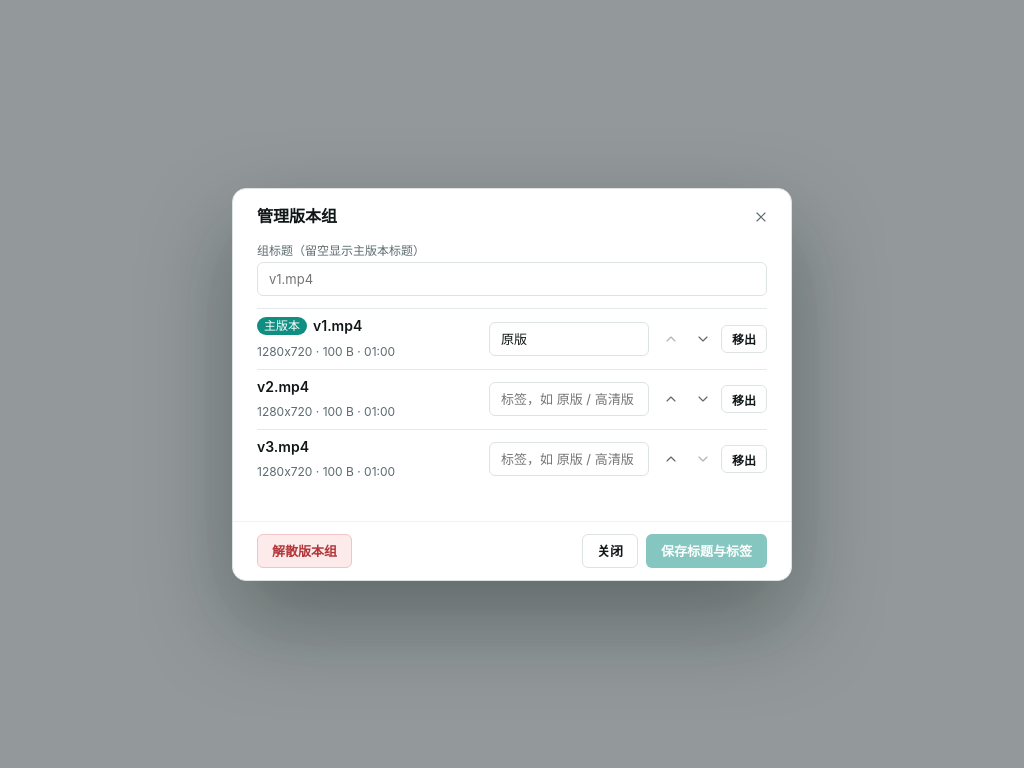
Scenario: VersionGroupDialog 管理一个组 › revision 冲突时重读该组并提示
Click the button with test id "version-dialog-up-3" at (671, 459), box [657,445,685,473]
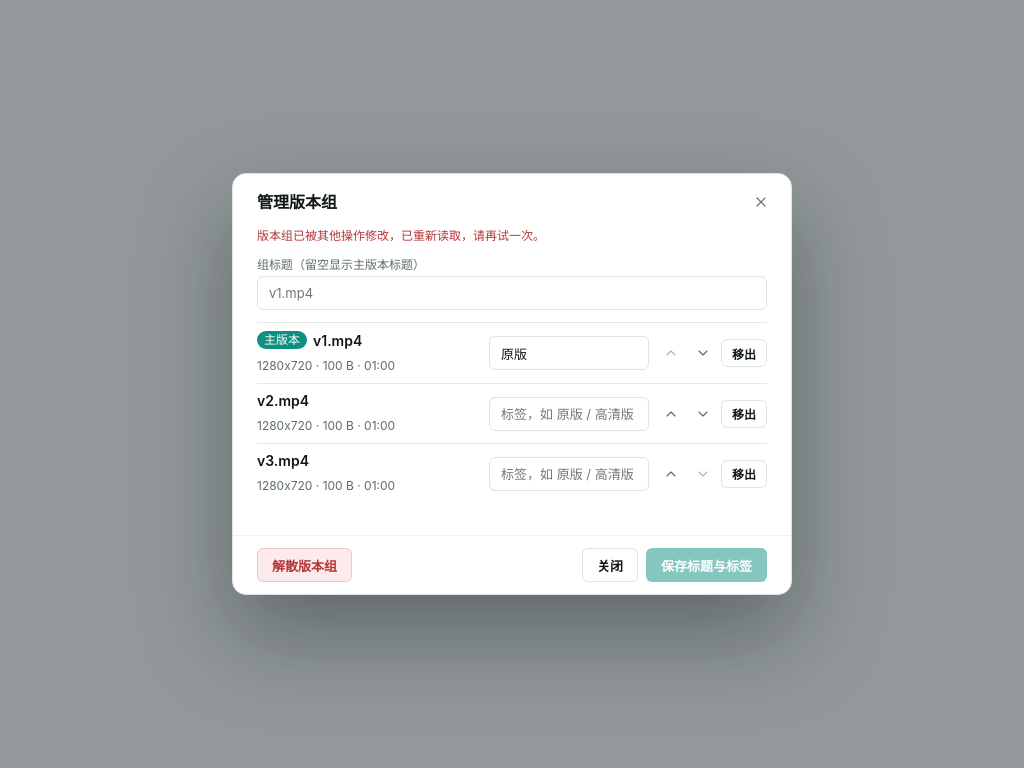
Now the message with test id "version-dialog-error" shows "已重新读取", box [257,228,545,243]
